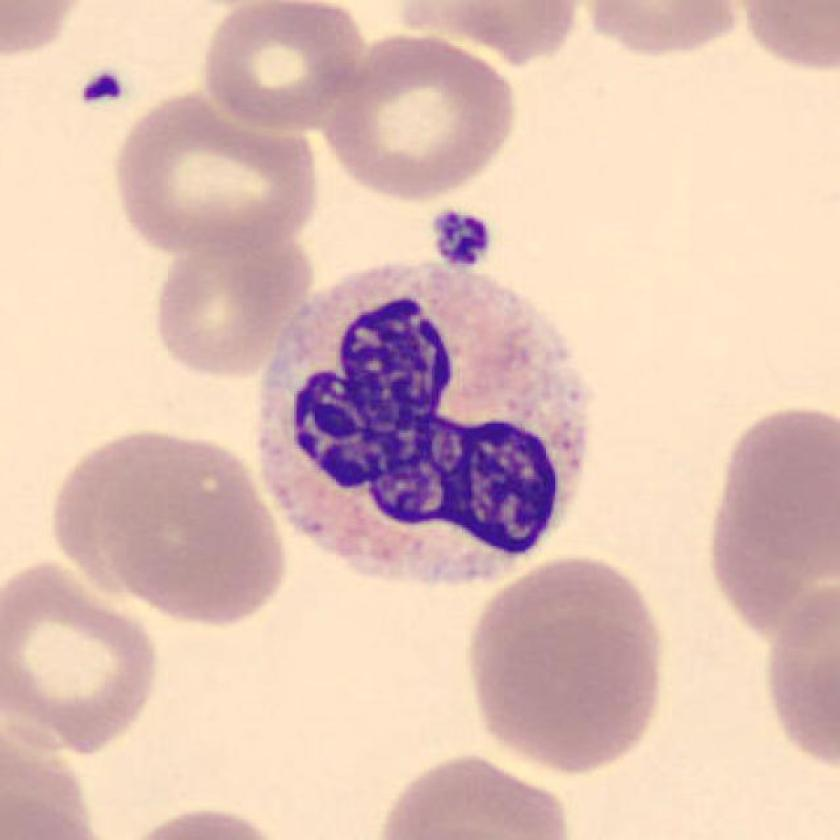neutrophil: (259, 262, 587, 588)
